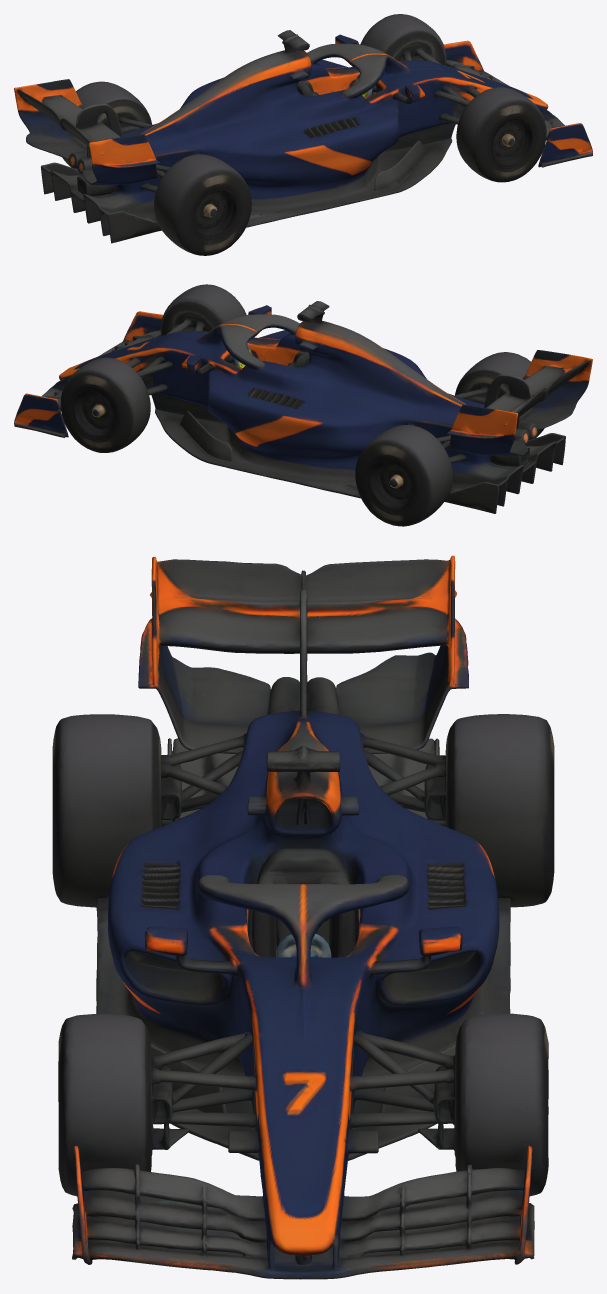
Rendered from car.glb.
The picture shows the model from 3 angles, top to bottom: view 1: azimuth 30°, elevation 25°; view 2: azimuth 150°, elevation 25°; view 3: azimuth 270°, elevation 25°; orthographic projection. The views are drawn at different scales.
Parts seen in each view (by area): view 1: tripo_node_1dcc0ee3-6e2d-4a11-9243-f7ad92094b5a; view 2: tripo_node_1dcc0ee3-6e2d-4a11-9243-f7ad92094b5a; view 3: tripo_node_1dcc0ee3-6e2d-4a11-9243-f7ad92094b5a.
Boxes of the visible parts, x1=… form: tripo_node_1dcc0ee3-6e2d-4a11-9243-f7ad92094b5a: x1=14, y1=14, x2=592, y2=255; tripo_node_1dcc0ee3-6e2d-4a11-9243-f7ad92094b5a: x1=14, y1=284, x2=592, y2=526; tripo_node_1dcc0ee3-6e2d-4a11-9243-f7ad92094b5a: x1=52, y1=555, x2=554, y2=1279.
Bounding box in the file's own units: 1 × 0.276 × 0.4365.
1 material, 1 textured.
